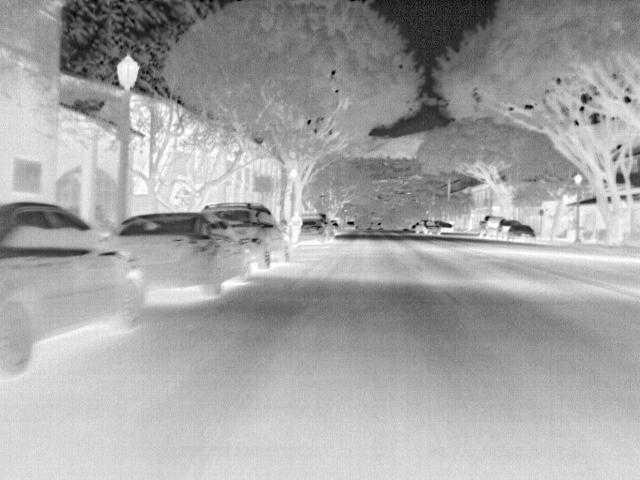car: (1, 201, 147, 373), (112, 211, 254, 294), (201, 201, 291, 268), (302, 212, 338, 245), (298, 220, 328, 242), (480, 215, 507, 237), (504, 224, 536, 241), (500, 220, 523, 238), (411, 220, 439, 234), (438, 222, 456, 234), (343, 220, 358, 232)
person: (289, 210, 304, 243)
